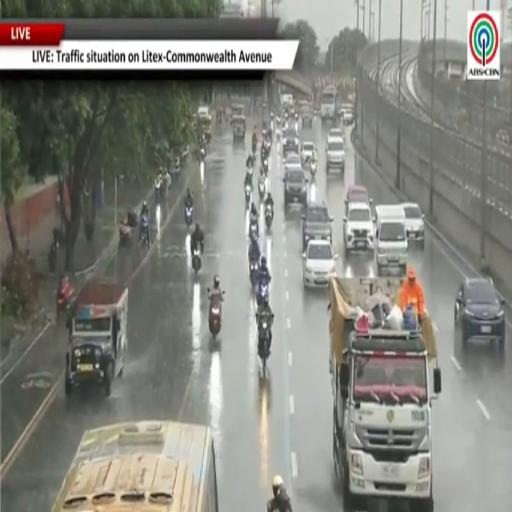bus: (52, 422, 218, 511), (320, 87, 336, 120)
car: (454, 278, 505, 349), (375, 204, 407, 275), (343, 202, 374, 254), (303, 240, 337, 286), (302, 202, 333, 250), (402, 203, 425, 248), (283, 168, 308, 209), (345, 185, 372, 214), (326, 137, 345, 173), (282, 124, 299, 155), (300, 141, 315, 164), (340, 104, 354, 125), (301, 104, 313, 127), (285, 153, 302, 169), (328, 128, 344, 138)
jeepney: (65, 281, 128, 395), (197, 106, 211, 141), (232, 116, 245, 141), (300, 102, 313, 127), (231, 104, 245, 122)
motorcycle: (208, 288, 224, 339), (258, 317, 270, 372), (139, 218, 151, 248), (119, 223, 133, 247), (48, 240, 58, 273), (256, 281, 269, 306), (192, 247, 202, 274), (250, 261, 259, 290), (265, 204, 273, 229), (185, 205, 193, 228), (155, 179, 163, 201), (258, 179, 266, 200), (249, 222, 258, 239), (310, 160, 317, 178), (261, 157, 268, 175), (245, 185, 251, 205), (200, 146, 206, 162), (252, 139, 257, 154), (246, 167, 253, 177), (276, 127, 281, 140)
truck: (328, 277, 441, 511), (320, 87, 338, 122)
